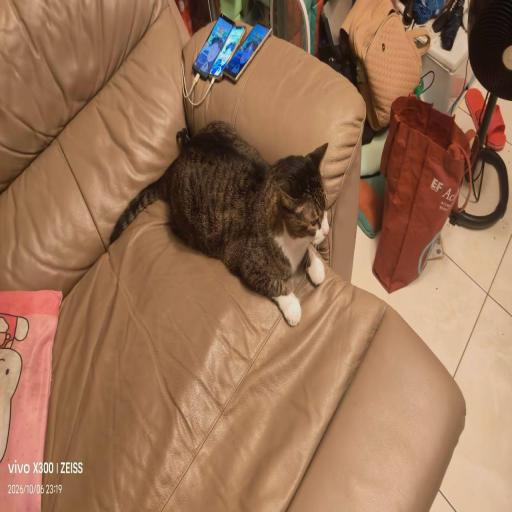cat: (169, 124, 332, 328)
